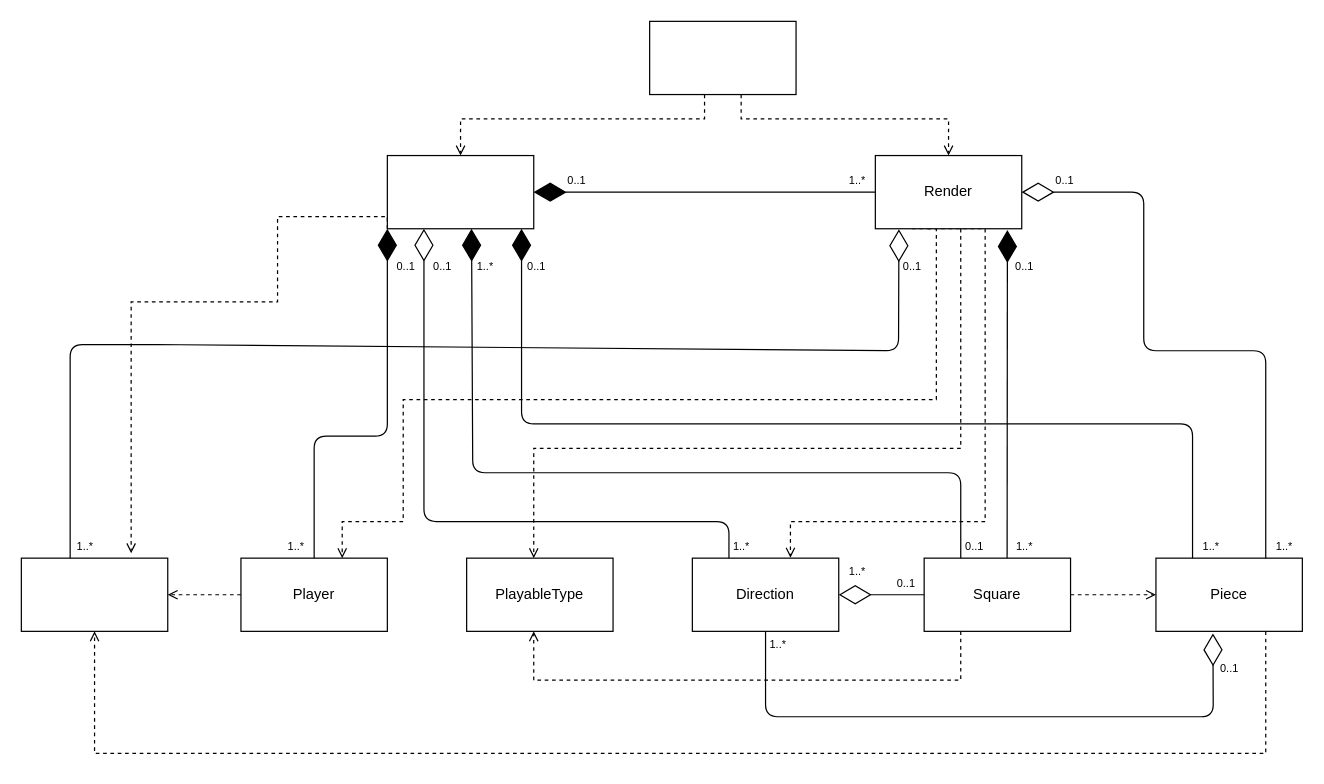
Some shapes in this 1324 by 784 pixel diagram are drawn without their labels. The centre of each missing label's shape, as x and y in pixels:
"Game Manager" goes at (460,191).
"PieceColor" goes at (94,594).
"Program" goes at (722,57).
